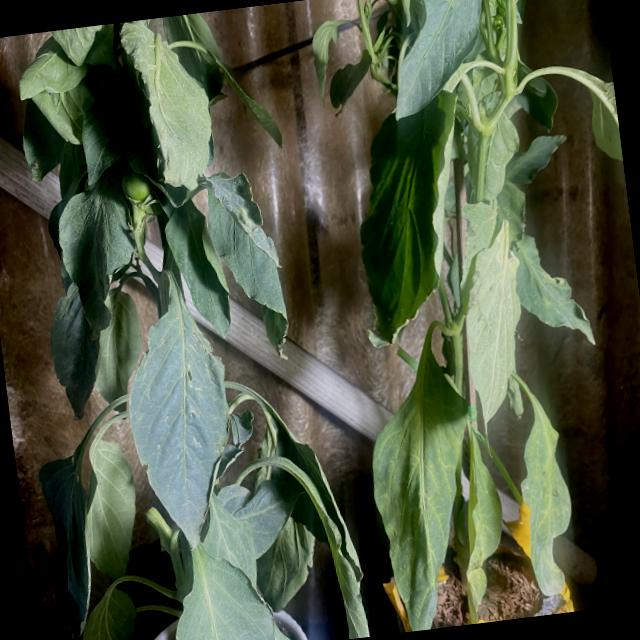Leaf: (336, 84, 484, 350), (359, 356, 493, 630), (116, 297, 245, 552), (202, 165, 292, 368), (119, 14, 219, 192), (511, 396, 583, 598), (53, 178, 144, 336), (73, 433, 144, 581)
